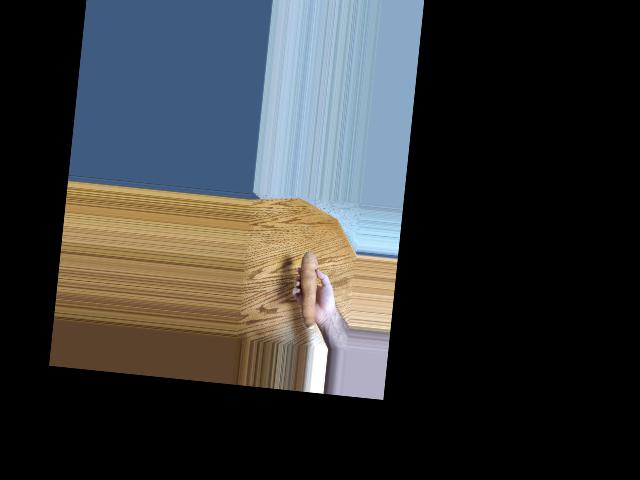sweet_potato: (289, 247, 320, 326)
